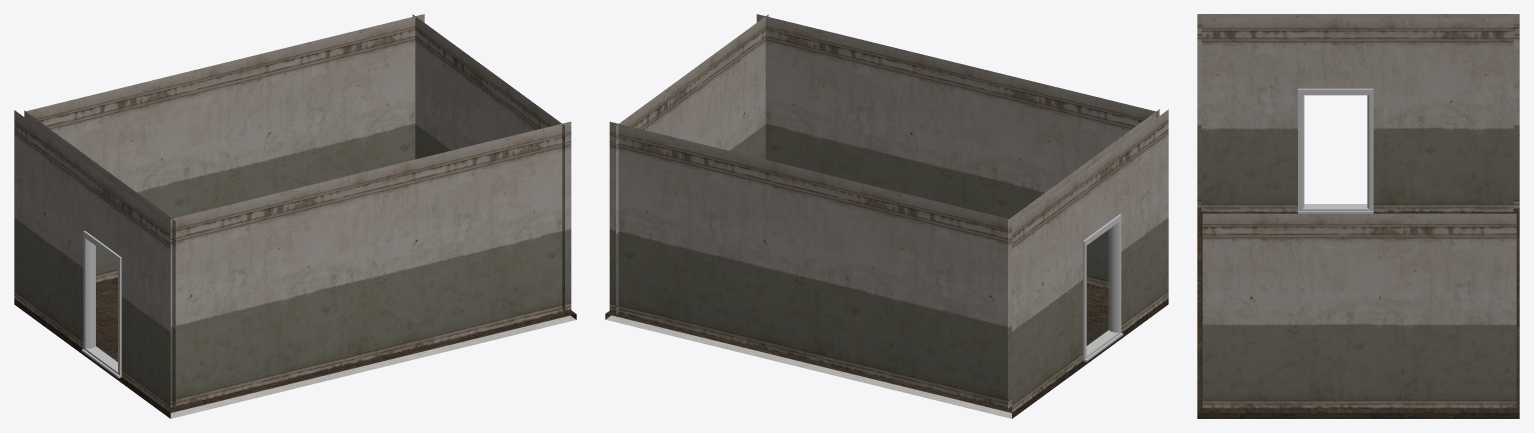
The model's file is room_6m_x_9m.fbx.
3 views of the same model, side by side, from view 1: azimuth 30°, elevation 25°; view 2: azimuth 150°, elevation 25°; view 3: azimuth 270°, elevation 25° (orthographic). The views are drawn at different scales.
Visible parts, largest first — view 1: room_6m_x_9m; view 2: room_6m_x_9m; view 3: room_6m_x_9m.
Part boxes in pixels (box(x1,y1,x2,y2)): room_6m_x_9m: box(14, 14, 576, 418); room_6m_x_9m: box(605, 14, 1168, 418); room_6m_x_9m: box(1197, 14, 1519, 418).
Bounding box in the file's own units: 908 × 412 × 600.
